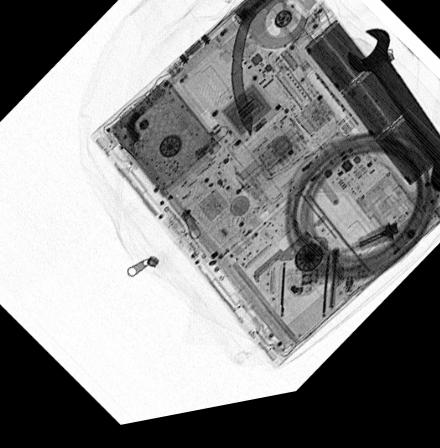Wrench: (343, 42, 440, 211)
